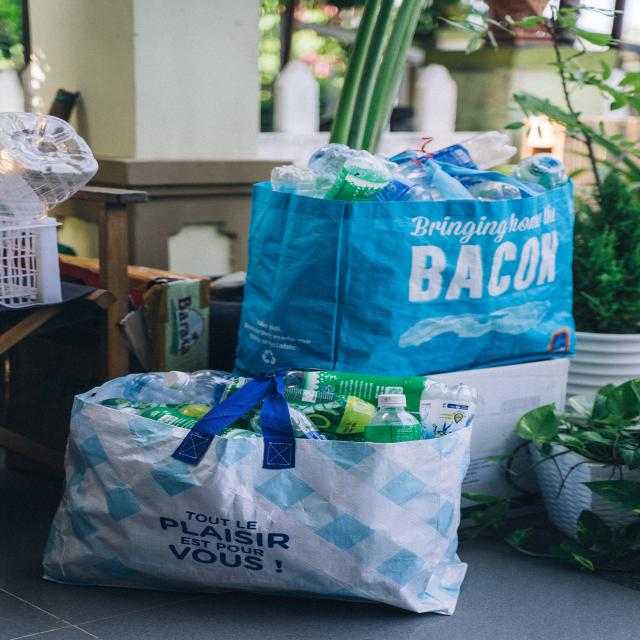plastic: (333, 157, 540, 192), (305, 381, 446, 429), (17, 128, 86, 176)
trash: (98, 452, 438, 590), (293, 218, 549, 346)
